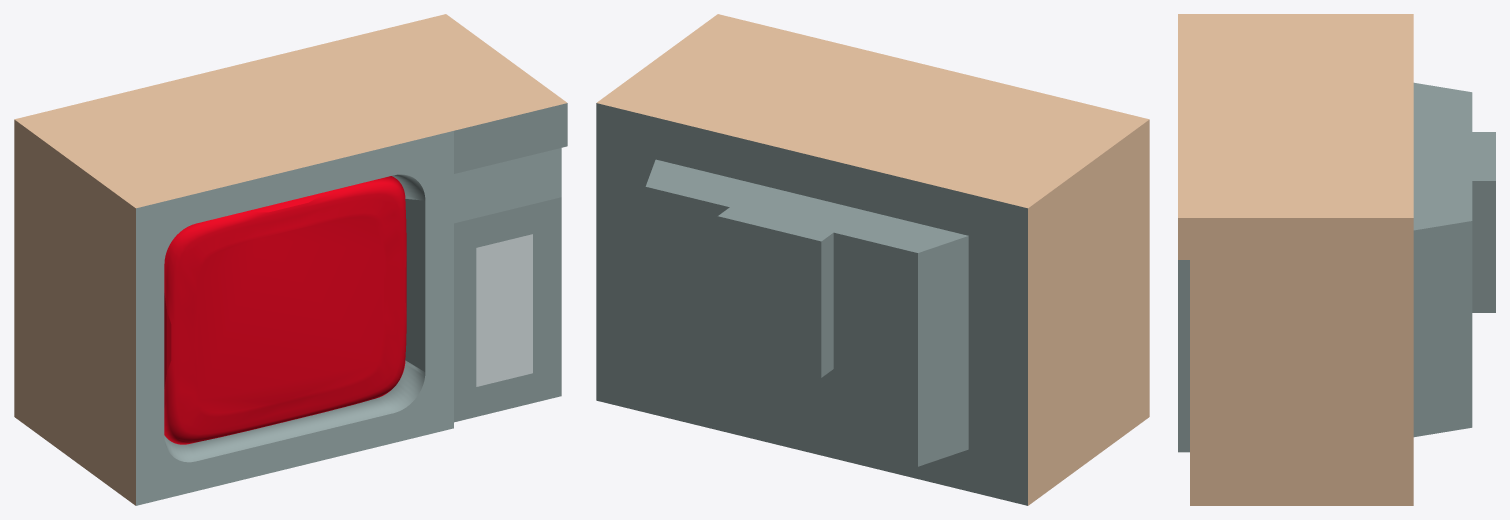
File: TV_modified.glb
The picture shows the model from 3 angles, left to right: view 1: azimuth 30°, elevation 25°; view 2: azimuth 150°, elevation 25°; view 3: azimuth 270°, elevation 25°; orthographic projection. The views are drawn at different scales.
Parts seen in each view (by area): view 1: televisionVintage(Clone); view 2: televisionVintage(Clone); view 3: televisionVintage(Clone).
Part boxes in pixels (x1,y1,x2,y2): televisionVintage(Clone): (14, 14, 567, 505); televisionVintage(Clone): (596, 14, 1149, 505); televisionVintage(Clone): (1178, 14, 1495, 505).
Bounding box in the file's own units: 0.41 × 0.27 × 0.27.
